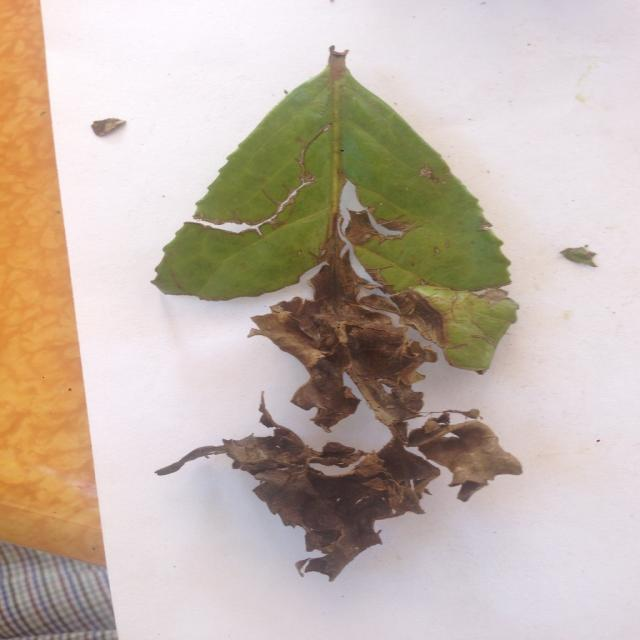Brown Blight: (145, 53, 541, 582)
